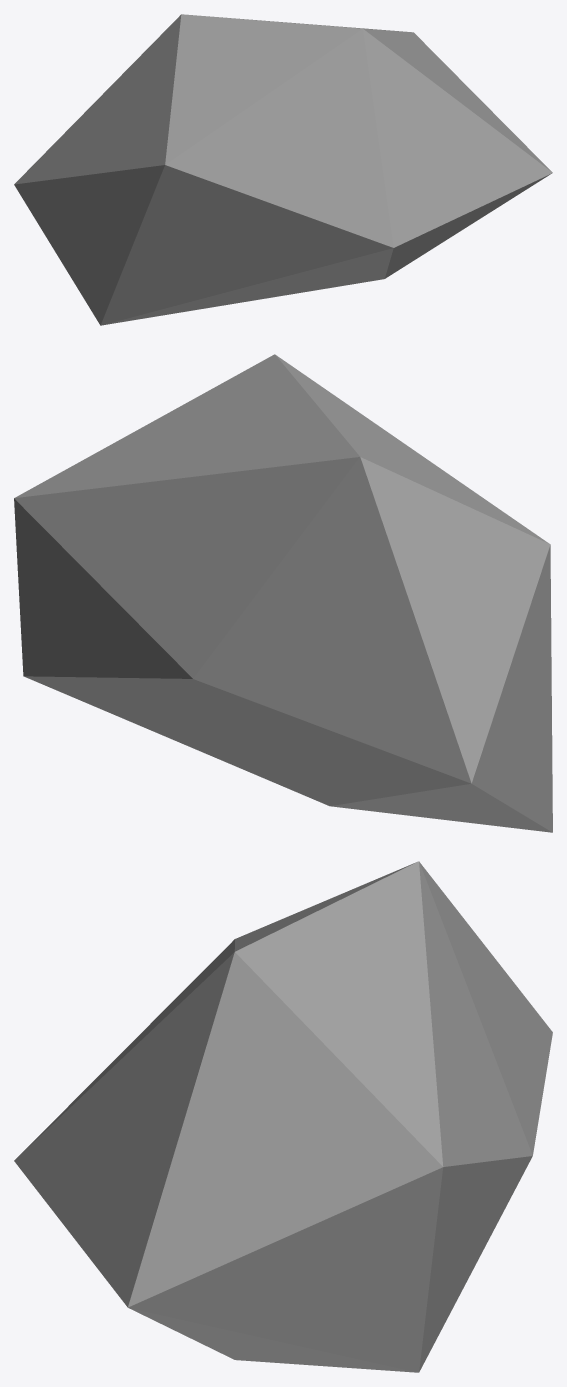
File: Rock_1.fbx
The picture shows the model from 3 angles, top to bottom: view 1: azimuth 30°, elevation 25°; view 2: azimuth 150°, elevation 25°; view 3: azimuth 270°, elevation 25°; orthographic projection. The views are drawn at different scales.
Parts seen in each view (by area): view 1: Rock_1; view 2: Rock_1; view 3: Rock_1.
Boxes of the visible parts, box(x1,y1,x2,y2) form: Rock_1: box(14, 14, 552, 325); Rock_1: box(14, 354, 552, 832); Rock_1: box(14, 861, 552, 1372).
Size of the model in its own units: 3.44 by 2.16 by 2.62.
Materials: 1 (1 with a texture image).
